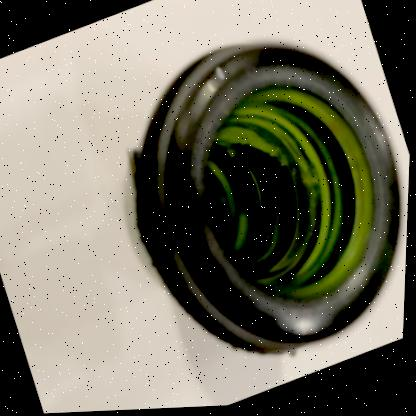Glass: (131, 47, 403, 357)
